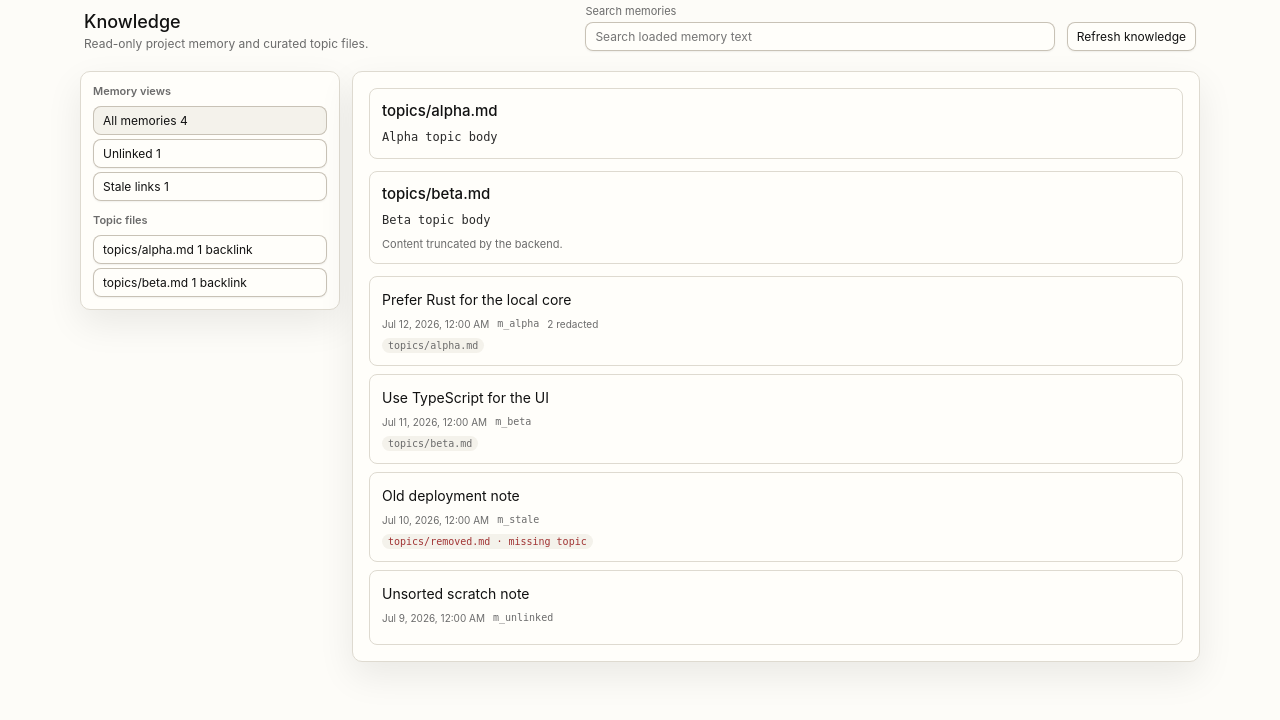
Test: KnowledgePanel › labels lexical search, filters loaded text case-insensitively, and clearing restores selection
Click the button "Unlinked 1". click: coordinates (210, 154)
box: [93,139,327,168]
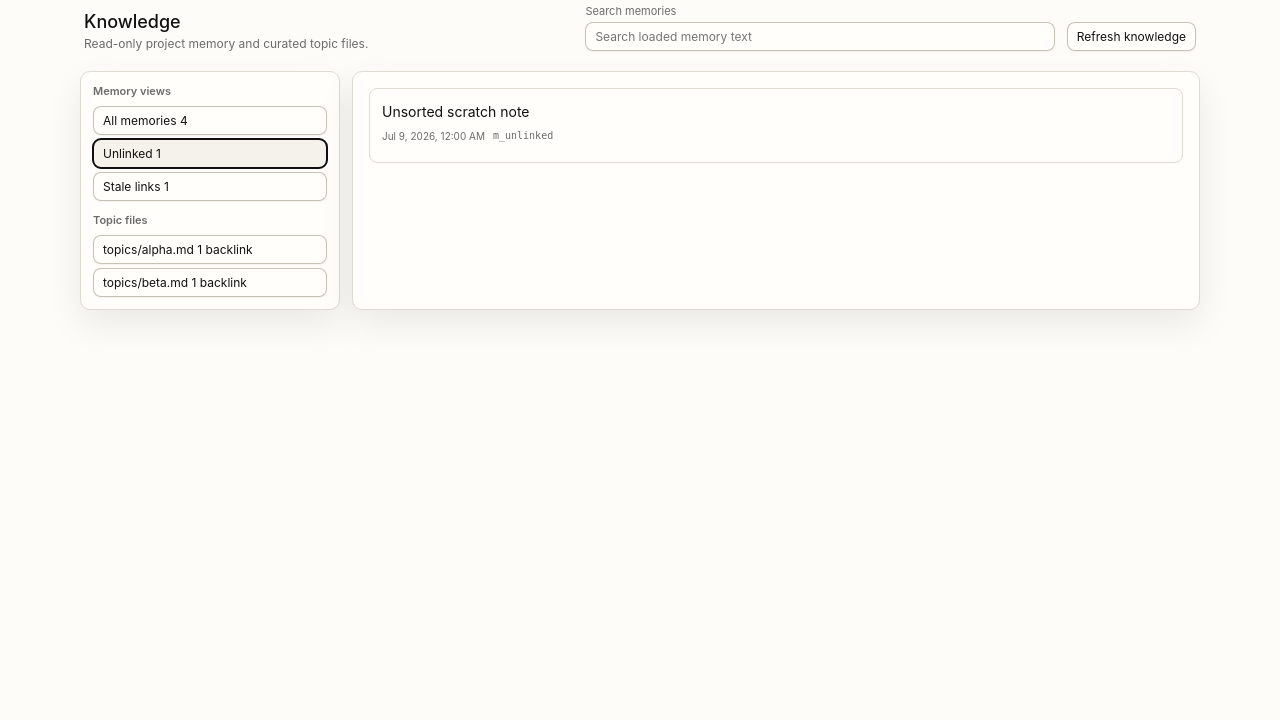
Type "rUsT" into the search field labelled "Search memories". click: coordinates (820, 36)
box: [585,22,1055,51]
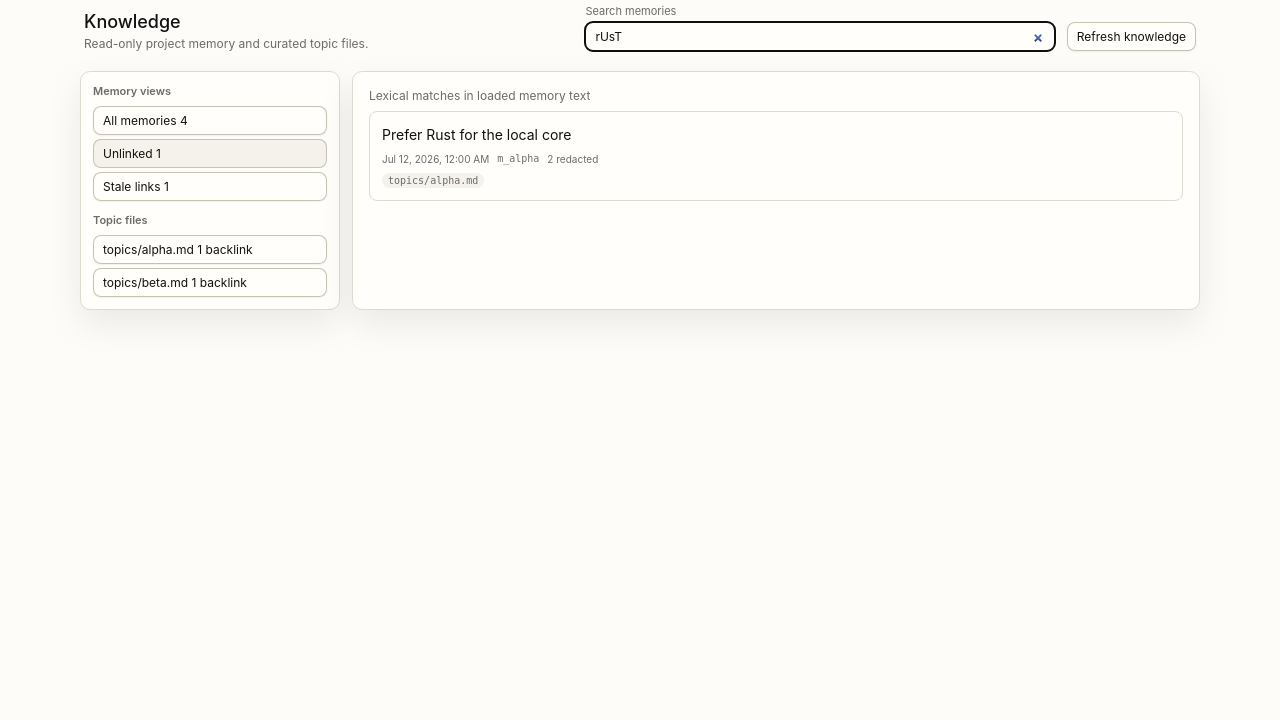
Now the text "Lexical matches in loaded memory text" is shown, box [369,88,590,103]
Now the element named "Memory m_alpha" is shown, box [369,111,1183,201]
Clear the search field labelled "Search memories". click: coordinates (820, 36)
box: [585,22,1055,51]
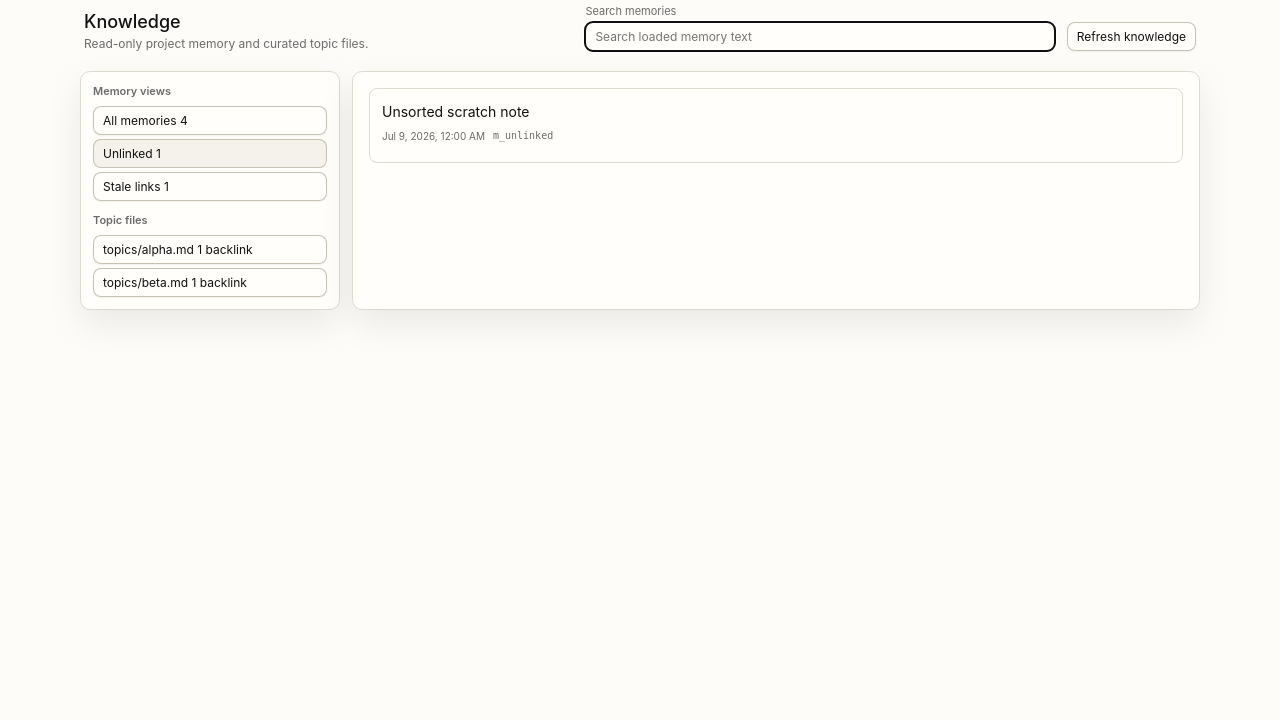
Now the text "Lexical matches in loaded memory text" is gone
Now the element named "Memory m_unlinked" is shown, box [369,88,1183,163]
